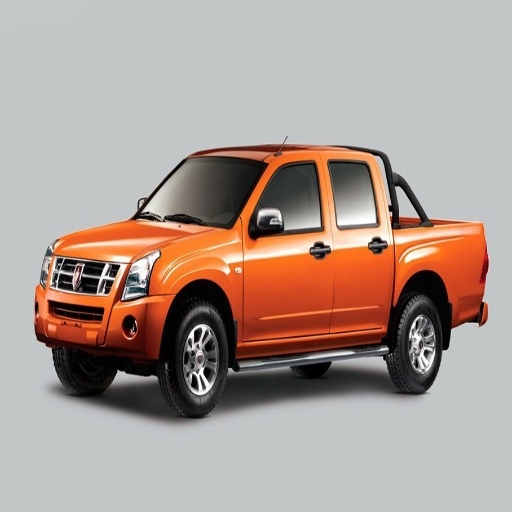back_left_door: (327, 156, 391, 330)
front_bumper: (34, 255, 172, 353)
front_glass: (136, 156, 266, 227)
front_left_door: (247, 159, 334, 342)
trunk: (391, 223, 485, 325)
